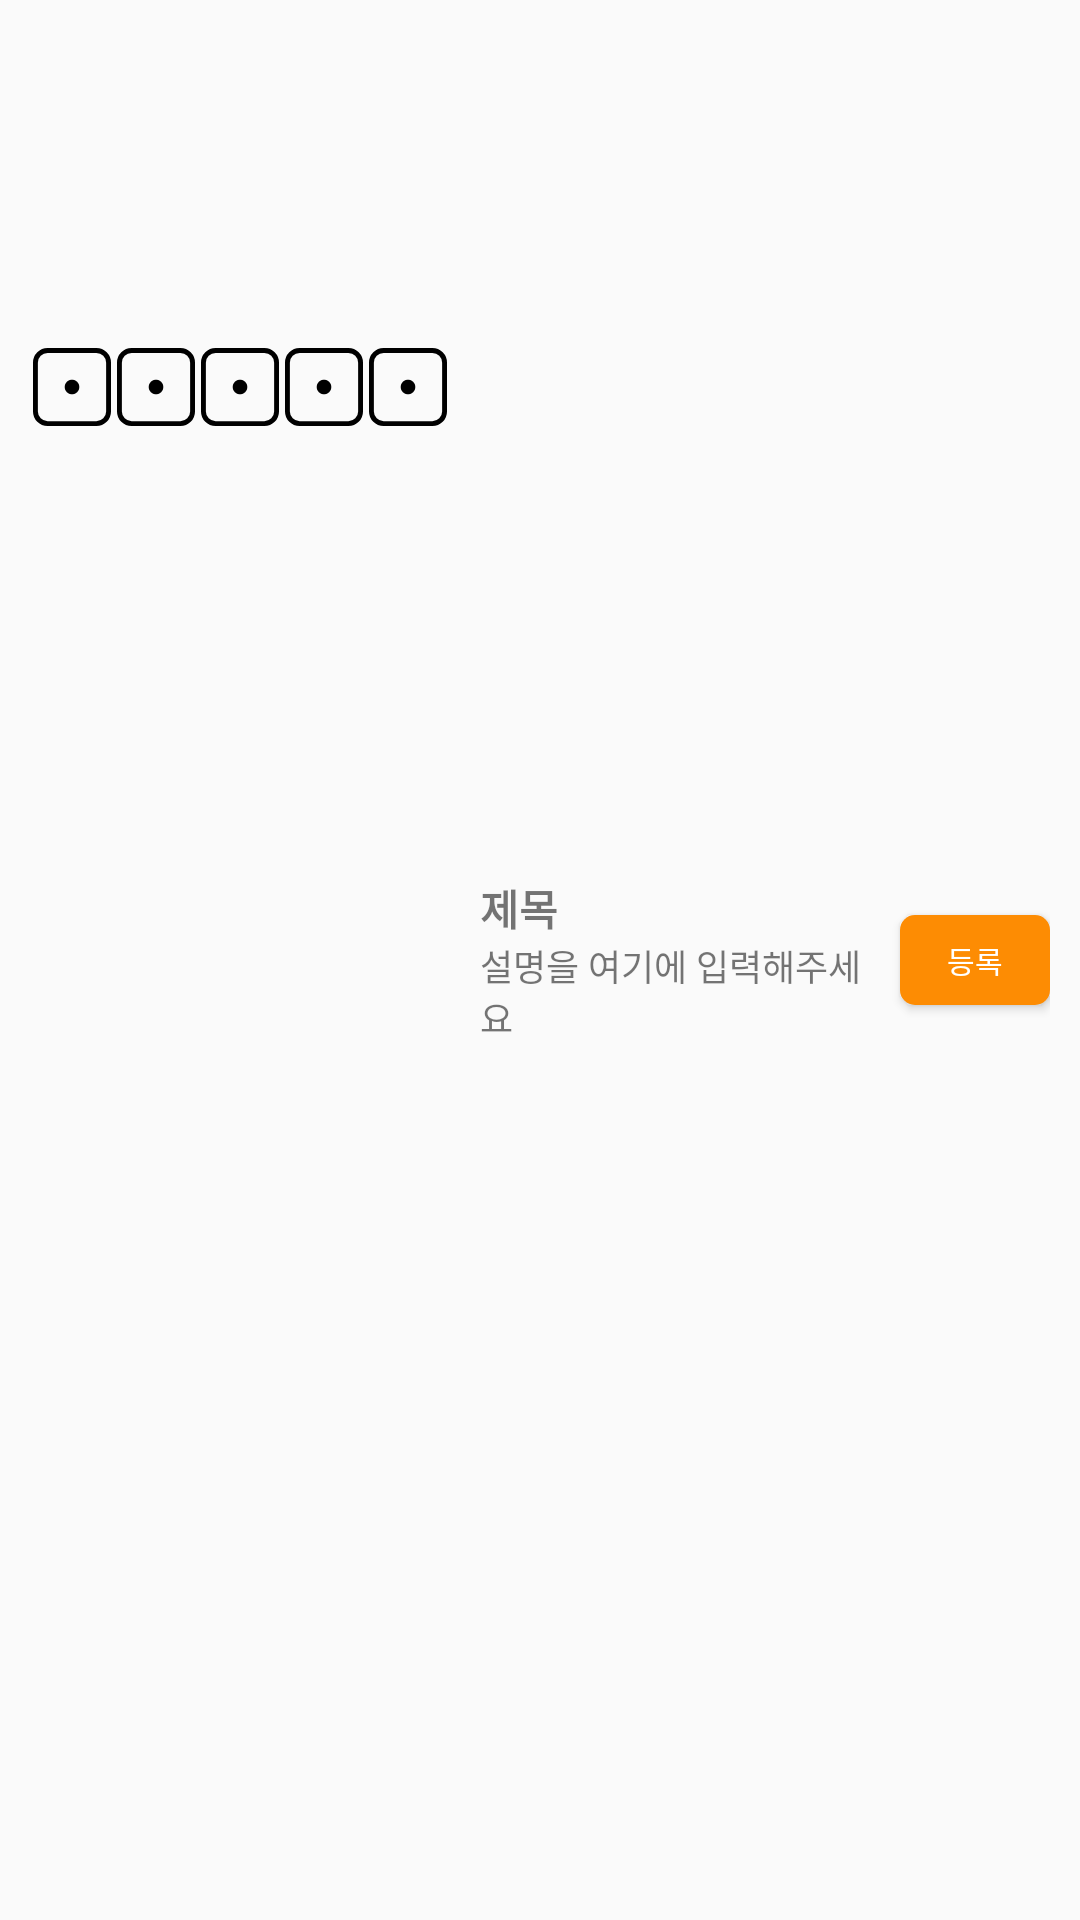

Where to tap for icons on this 1080 × 1920 app screen, as (x=x, y=y):
dice one: (x=72, y=387), (x=156, y=387), (x=240, y=387), (x=324, y=387), (x=408, y=387)
